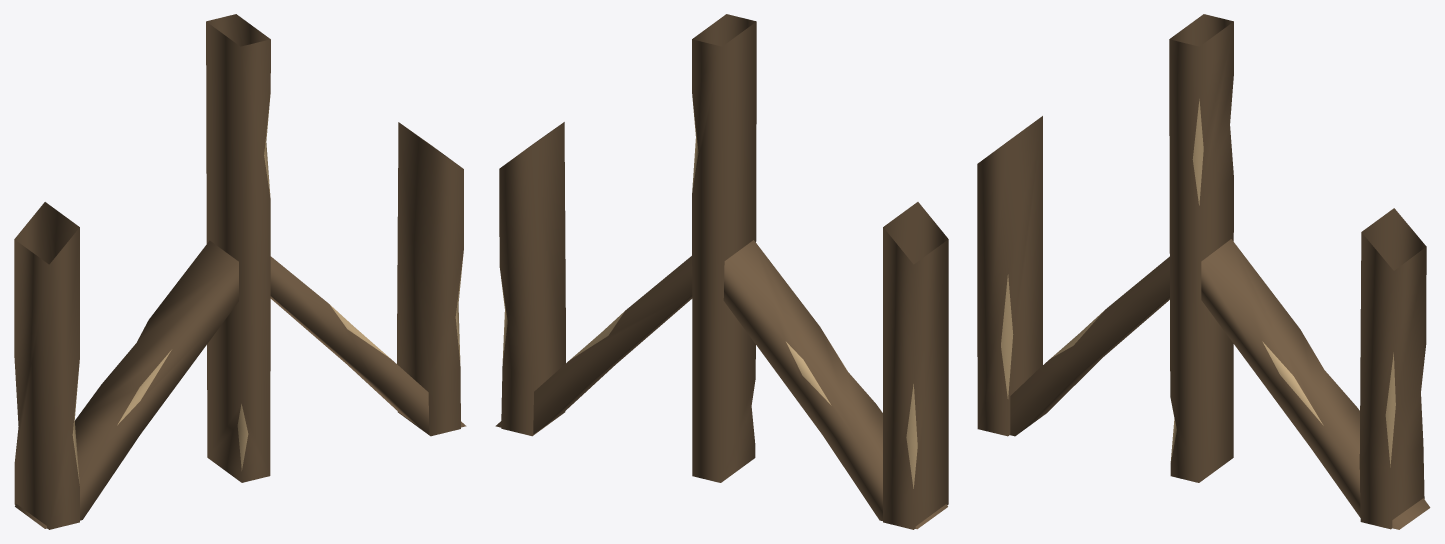
File: rpgpp_ag_roof_end_01_9x4_wall_beam_b.fbx
3 renders of one model, left to right at view 1: azimuth 30°, elevation 25°; view 2: azimuth 150°, elevation 25°; view 3: azimuth 330°, elevation 25°, orthographic.
Parts seen in each view (by area): view 1: rpgpp_ag_roof_end_01_9x4_wall_beam_b; view 2: rpgpp_ag_roof_end_01_9x4_wall_beam_b; view 3: rpgpp_ag_roof_end_01_9x4_wall_beam_b.
Part boxes in pixels (x1,y1,x2,y2): rpgpp_ag_roof_end_01_9x4_wall_beam_b: (14, 14, 466, 529); rpgpp_ag_roof_end_01_9x4_wall_beam_b: (495, 14, 948, 529); rpgpp_ag_roof_end_01_9x4_wall_beam_b: (977, 14, 1430, 529).
Size of the model in its own units: 4.01 by 3.97 by 0.5745.
